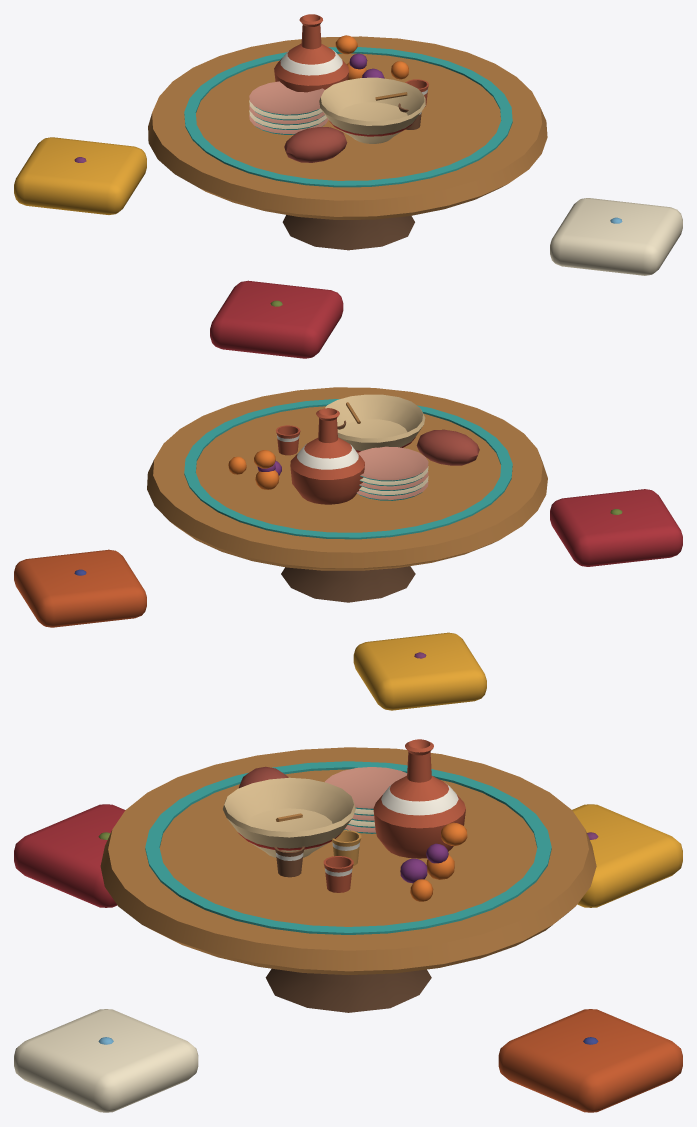
File: deco_low_table_meal.fbx
3 renders of one model, top to bottom at view 1: azimuth 30°, elevation 25°; view 2: azimuth 150°, elevation 25°; view 3: azimuth 270°, elevation 25°, orthographic. The views are drawn at different scales.
Parts seen in each view (by area): view 1: LowTable_Meal_Table, LowTable_Meal_Meal, LowTable_Meal_Cushion3, LowTable_Meal_Cushion2, LowTable_Meal_Cushion4; view 2: LowTable_Meal_Table, LowTable_Meal_Meal, LowTable_Meal_Cushion2, LowTable_Meal_Cushion1, LowTable_Meal_Cushion3; view 3: LowTable_Meal_Table, LowTable_Meal_Meal, LowTable_Meal_Cushion1, LowTable_Meal_Cushion4, LowTable_Meal_Cushion2, LowTable_Meal_Cushion3.
Part boxes in pixels (x1=…): LowTable_Meal_Table: x1=148, y1=36, x2=547, y2=250; LowTable_Meal_Meal: x1=249, y1=14, x2=428, y2=162; LowTable_Meal_Cushion3: x1=210, y1=280, x2=343, y2=358; LowTable_Meal_Cushion2: x1=14, y1=137, x2=146, y2=214; LowTable_Meal_Cushion4: x1=550, y1=198, x2=682, y2=275; LowTable_Meal_Table: x1=147, y1=387, x2=547, y2=602; LowTable_Meal_Meal: x1=228, y1=394, x2=479, y2=504; LowTable_Meal_Cushion2: x1=353, y1=632, x2=486, y2=710; LowTable_Meal_Cushion1: x1=14, y1=549, x2=146, y2=627; LowTable_Meal_Cushion3: x1=550, y1=489, x2=682, y2=566; LowTable_Meal_Table: x1=100, y1=747, x2=596, y2=1012; LowTable_Meal_Meal: x1=223, y1=739, x2=467, y2=901; LowTable_Meal_Cushion1: x1=498, y1=1009, x2=682, y2=1112; LowTable_Meal_Cushion4: x1=14, y1=1009, x2=198, y2=1112; LowTable_Meal_Cushion2: x1=572, y1=804, x2=682, y2=907; LowTable_Meal_Cushion3: x1=14, y1=804, x2=125, y2=907.
Size of the model in its own units: 283 by 107 by 283.
